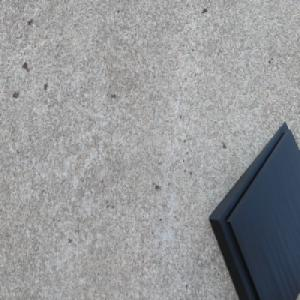PlasticPart: (207, 118, 300, 300)
